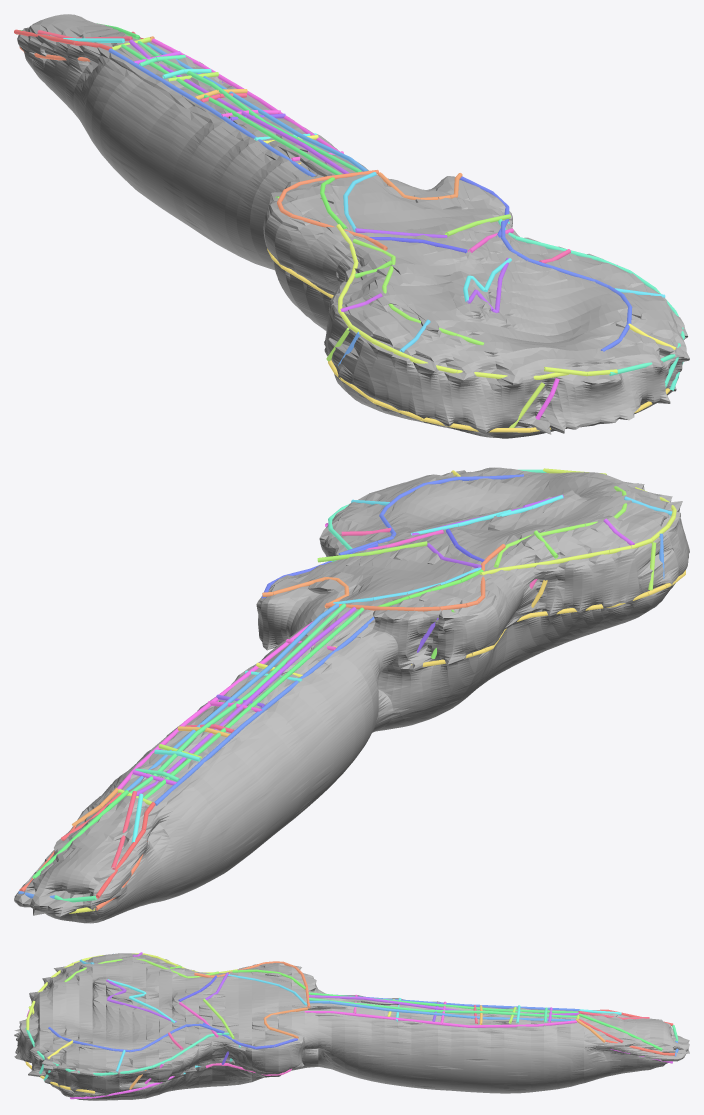
File: author2_guitar.gltf
3 renders of one model, top to bottom at view 1: azimuth 30°, elevation 25°; view 2: azimuth 150°, elevation 25°; view 3: azimuth 270°, elevation 25°, orthographic. The views are drawn at different scales.
Bounding box in the file's own units: 0.3303 × 0.1583 × 0.9655.
